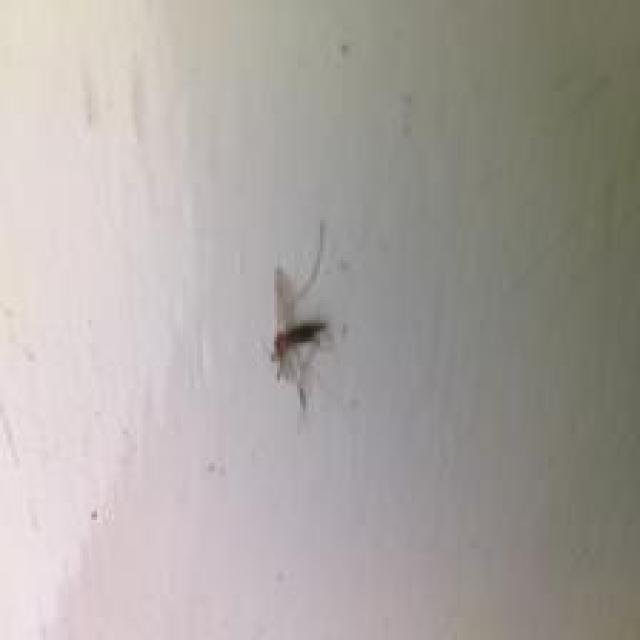Culex: (268, 219, 332, 410)
